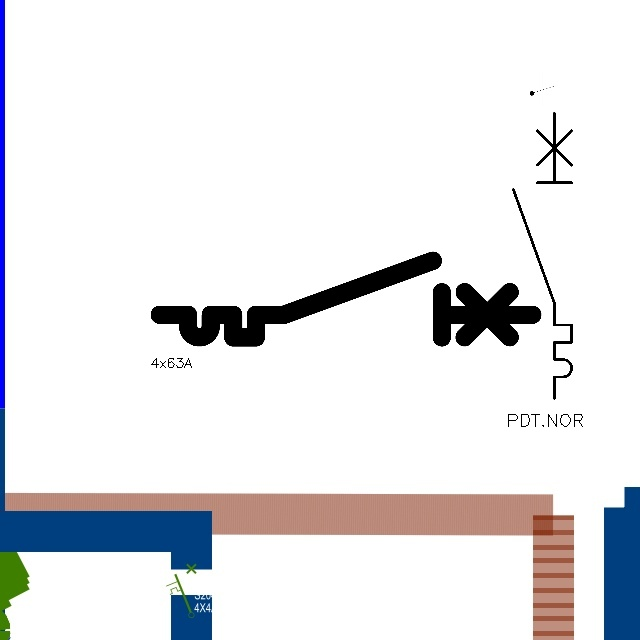interruptor_termomagnetico: (150, 251, 542, 347), (506, 105, 579, 405)
